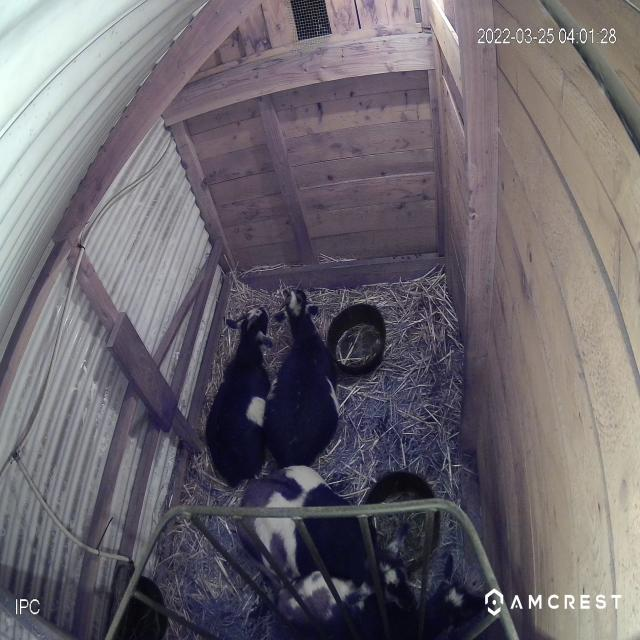goat: (222, 445, 388, 584), (278, 546, 489, 640), (269, 272, 346, 471), (203, 296, 273, 484)
